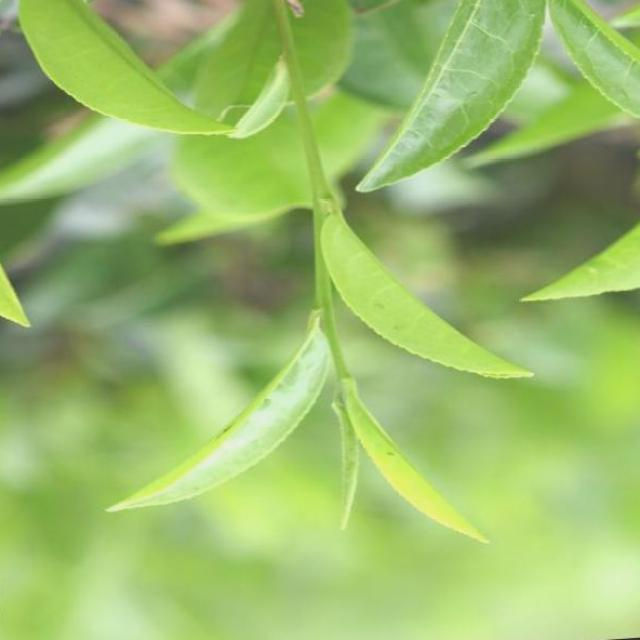Stem: (315, 293, 332, 312)
